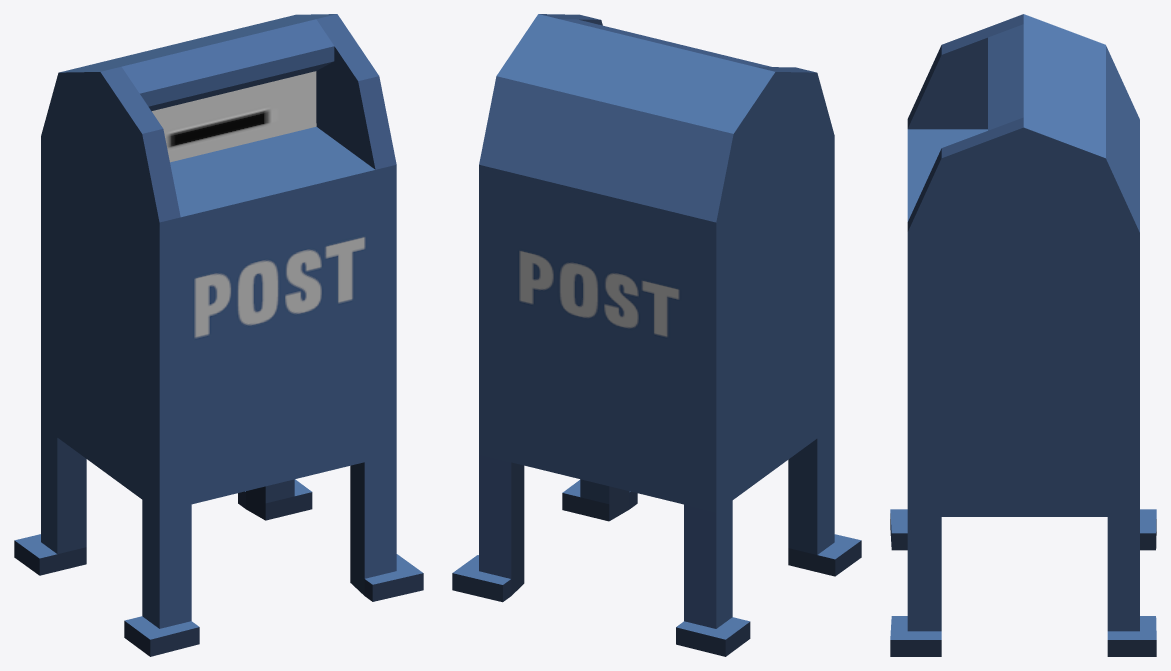
The model's file is SM_PostBox_01.fbx.
3 renders of one model, left to right at view 1: azimuth 30°, elevation 25°; view 2: azimuth 150°, elevation 25°; view 3: azimuth 270°, elevation 25°, orthographic.
Visible parts, largest first — view 1: SM_PostBox_01; view 2: SM_PostBox_01; view 3: SM_PostBox_01.
Boxes of the visible parts, left/top/right/bottom form: SM_PostBox_01: left=14, top=14, right=423, bottom=656; SM_PostBox_01: left=452, top=14, right=861, bottom=656; SM_PostBox_01: left=890, top=14, right=1156, bottom=656.
Size of the model in its own units: 1.06 by 1.97 by 0.9116.
